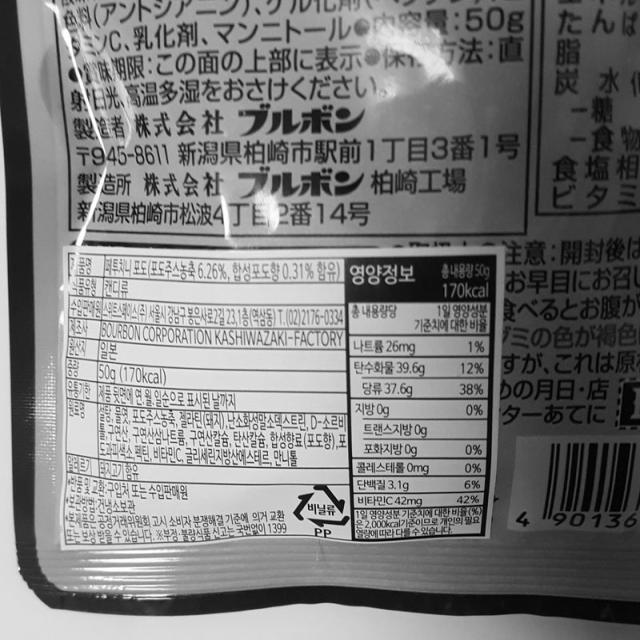Nutrition Label: (345, 251, 496, 539)
